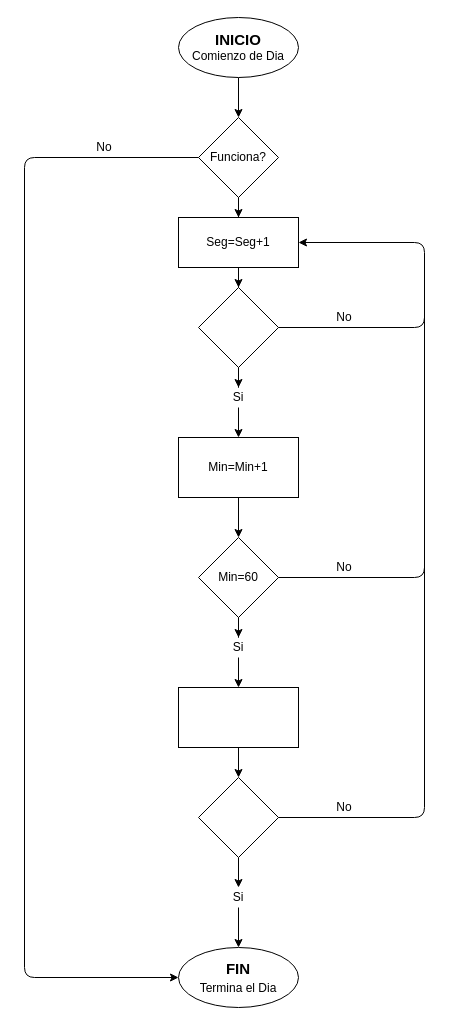
Image size: 450x1025. Some labels were removed from this diagram. Each missing label, with the centre of its shape:
"Hora=24" goes at (238,817).
"Hora=Hora+1" goes at (238,717).
"Seg=60" goes at (238,327).
